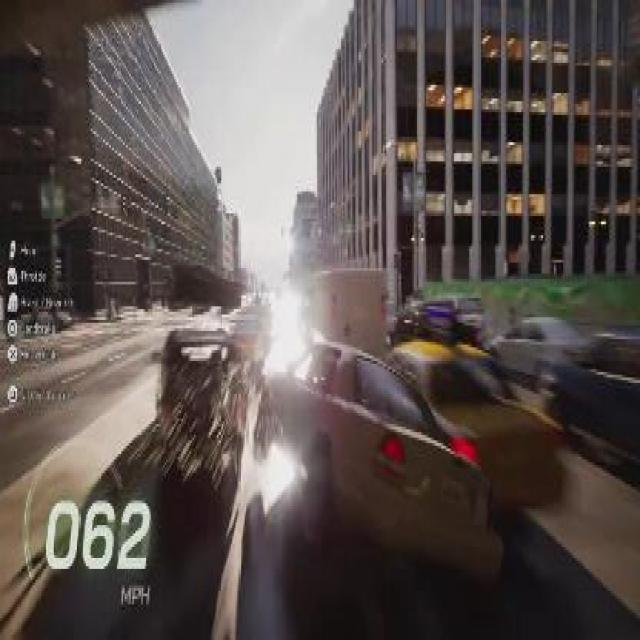accident: (143, 312, 569, 602)
